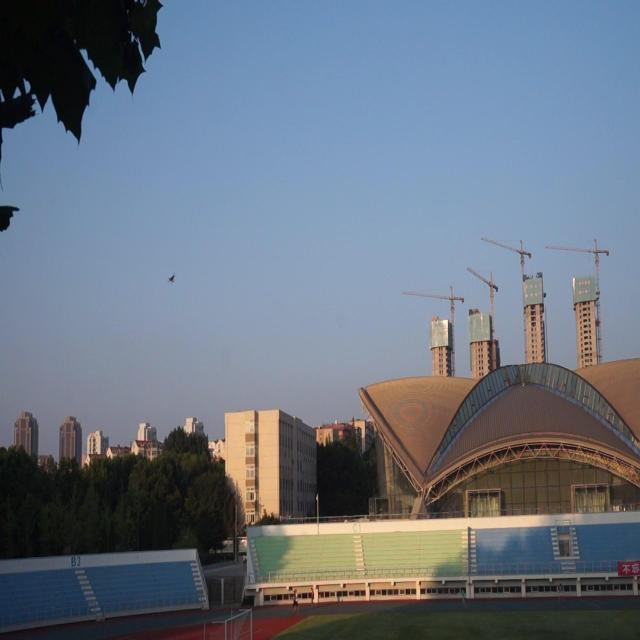drone: (168, 270, 176, 286)
